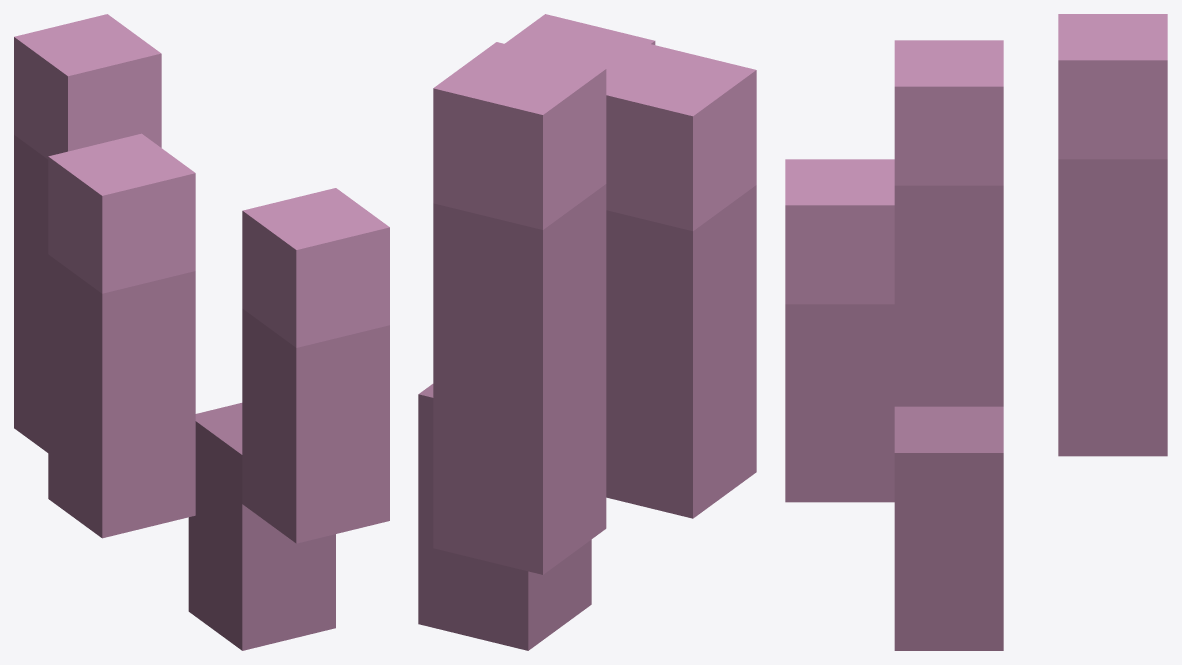
File: coral_blando_03.glb
3 views of the same model, side by side, from view 1: azimuth 30°, elevation 25°; view 2: azimuth 150°, elevation 25°; view 3: azimuth 270°, elevation 25° (orthographic). The views are drawn at different scales.
Visible parts, largest first — view 1: coral_blando_03; view 2: coral_blando_03; view 3: coral_blando_03.
Part boxes in pixels (bbox=[...]): coral_blando_03: bbox=[14, 14, 389, 650]; coral_blando_03: bbox=[418, 14, 756, 650]; coral_blando_03: bbox=[785, 14, 1167, 650].
Bounding box in the file's own units: 0.5 × 1.1 × 0.7.
